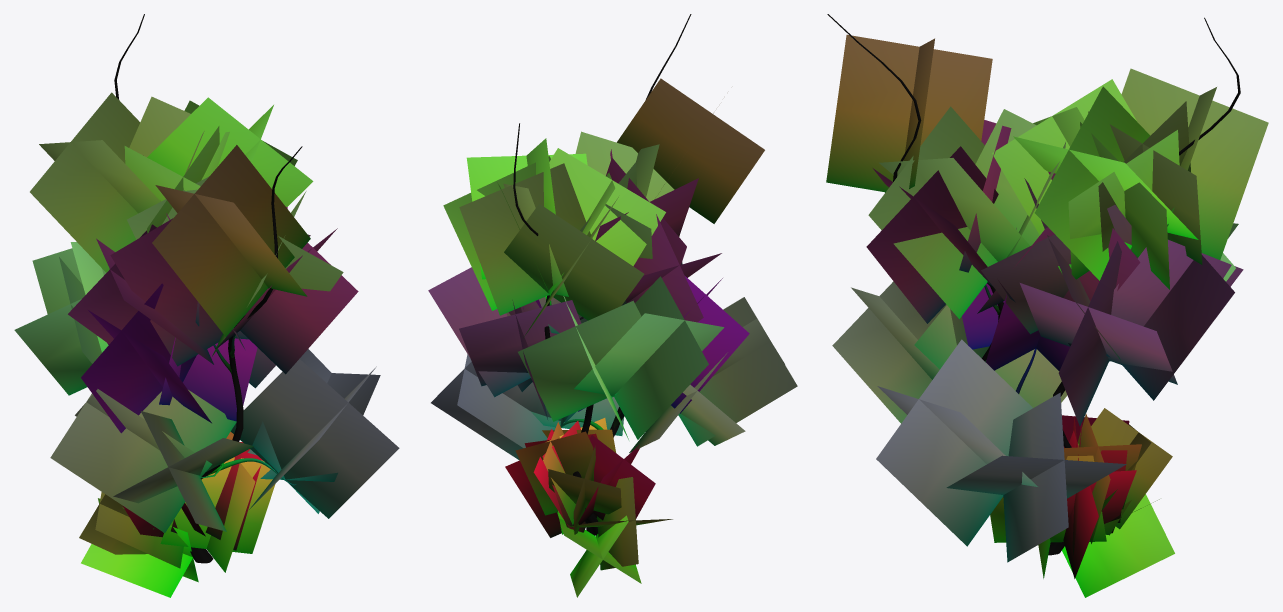
The model's file is URP_P12_Tree_5_LOD_0.fbx.
The picture shows the model from 3 angles, left to right: view 1: azimuth 30°, elevation 25°; view 2: azimuth 150°, elevation 25°; view 3: azimuth 270°, elevation 25°; orthographic projection. The views are drawn at different scales.
Parts seen in each view (by area): view 1: Tree_5_LOD_0; view 2: Tree_5_LOD_0; view 3: Tree_5_LOD_0.
Boxes of the visible parts, <box> form: Tree_5_LOD_0: <box>14,14,399,597</box>; Tree_5_LOD_0: <box>428,14,797,597</box>; Tree_5_LOD_0: <box>826,14,1268,597</box>.
Bounding box in the file's own units: 186 × 287 × 198.
